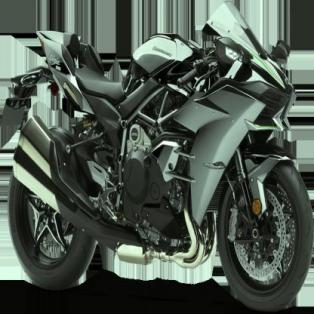Motocicleta: (4, 0, 314, 313)
